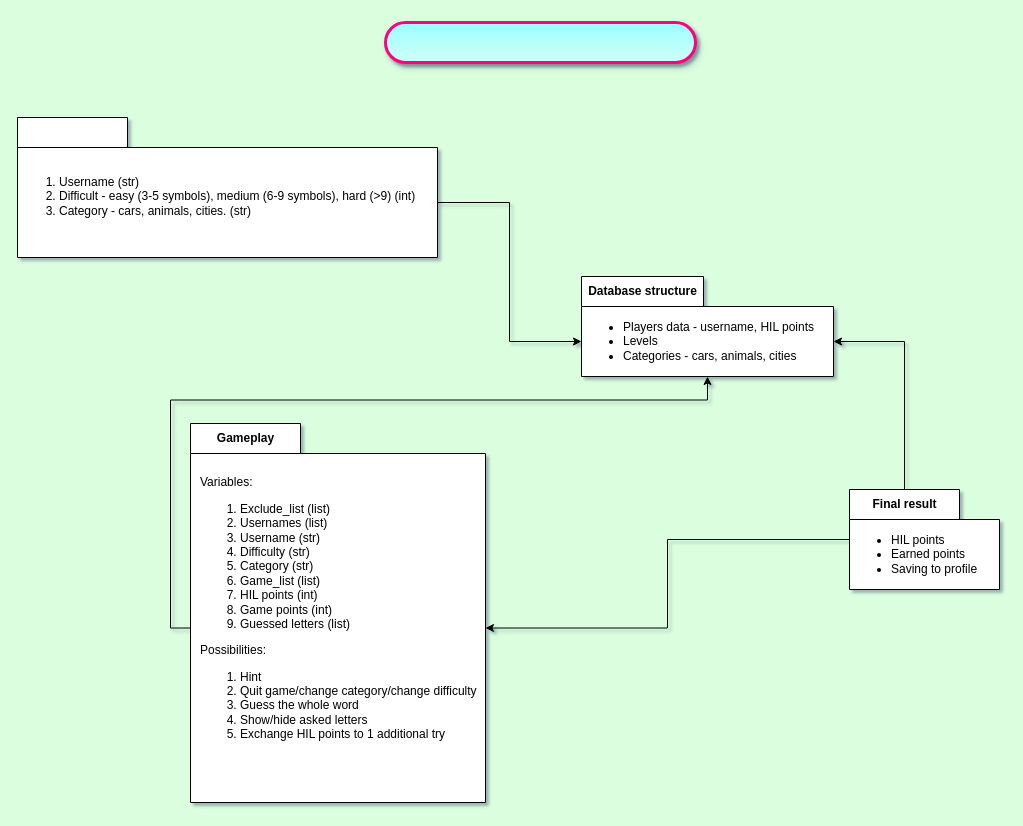
Image size: 1023x826. Some labels were removed from this diagram. The shapes that lost their labels are listed below. From the top down, each one's centre as x and y in pixels, then its label:
(541,43): "Hangman" structure diagram
(227,187): Initial input
